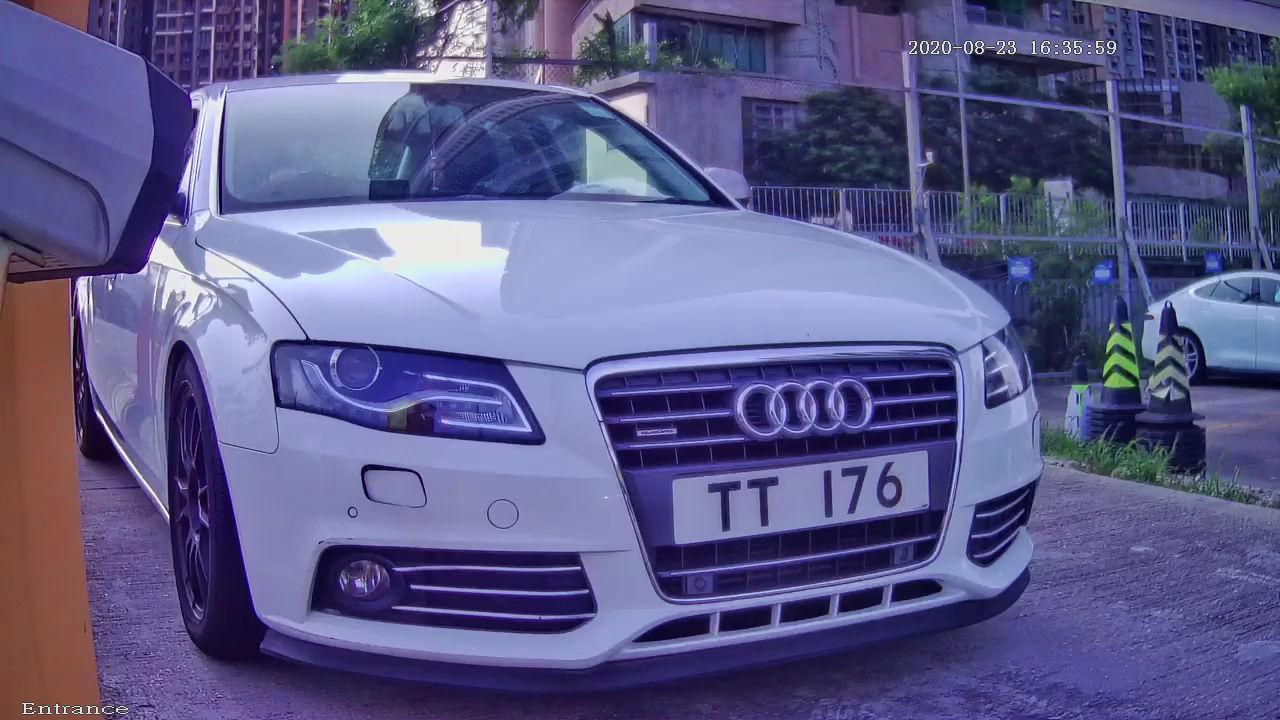Car: (23, 7, 1161, 714)
License Plate: (626, 417, 983, 587)
